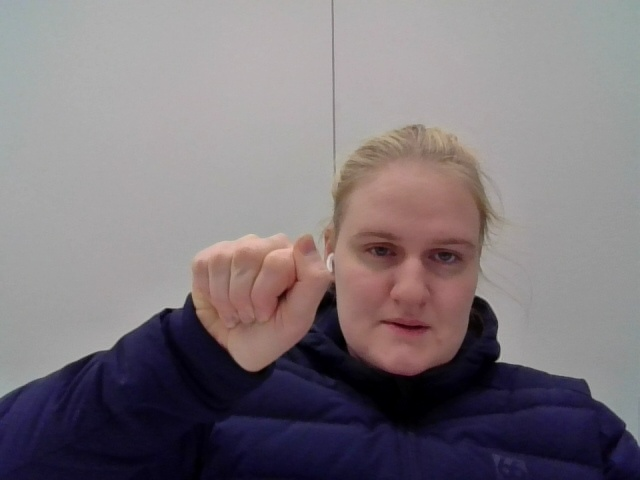down: (178, 226, 342, 379)
